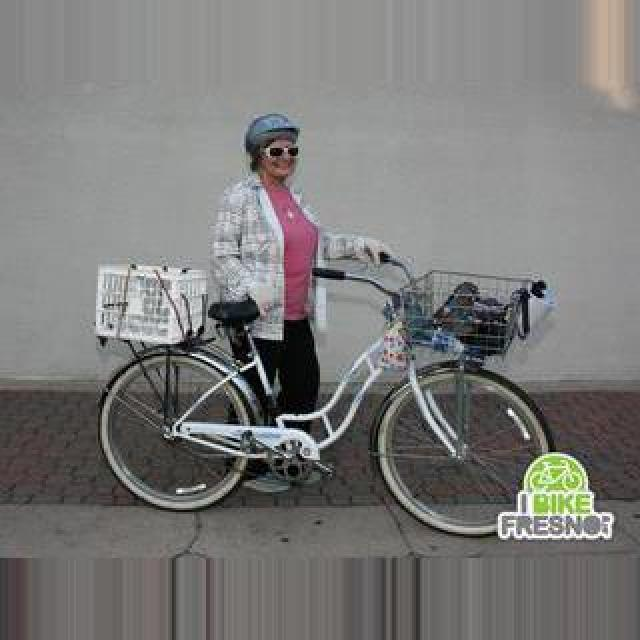MC-Bike: (208, 108, 324, 438)
Person: (98, 256, 560, 536)
